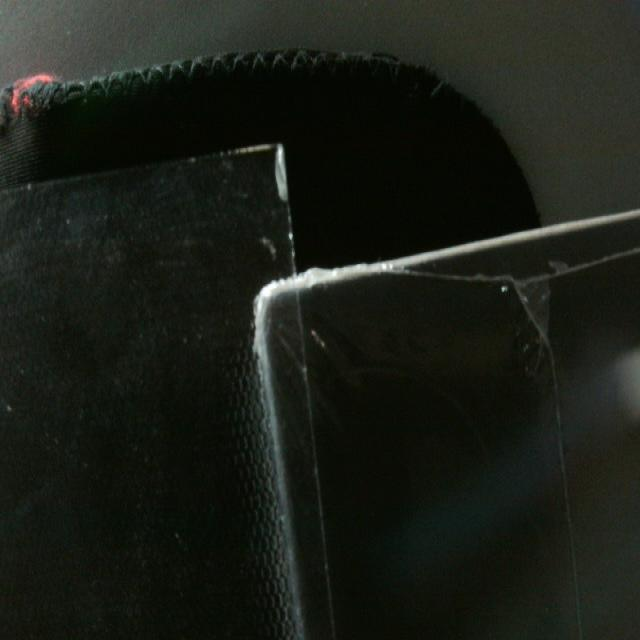edge_chip: (265, 130, 295, 218)
